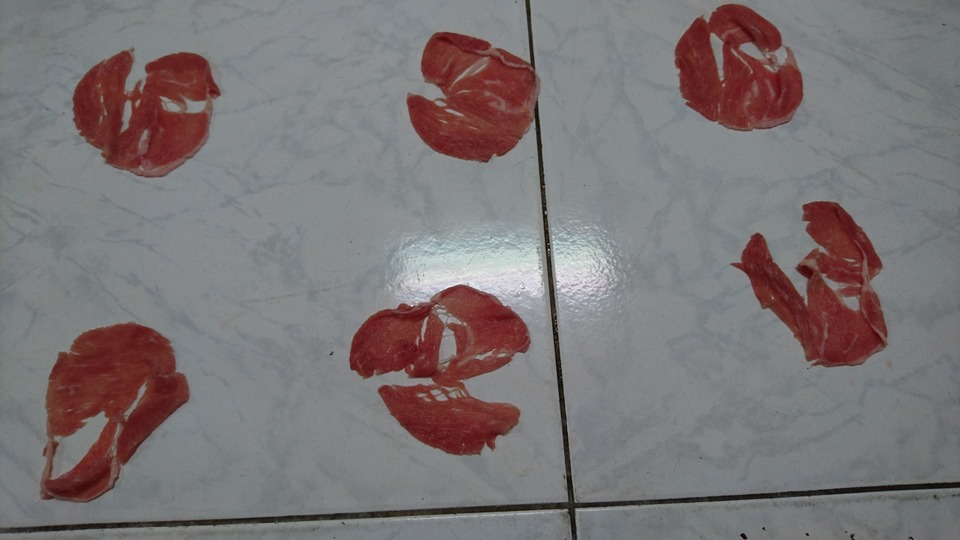restructured meat: (349, 288, 536, 456), (38, 316, 200, 509), (734, 200, 899, 368), (396, 34, 565, 157), (67, 45, 217, 183), (675, 14, 809, 142)
